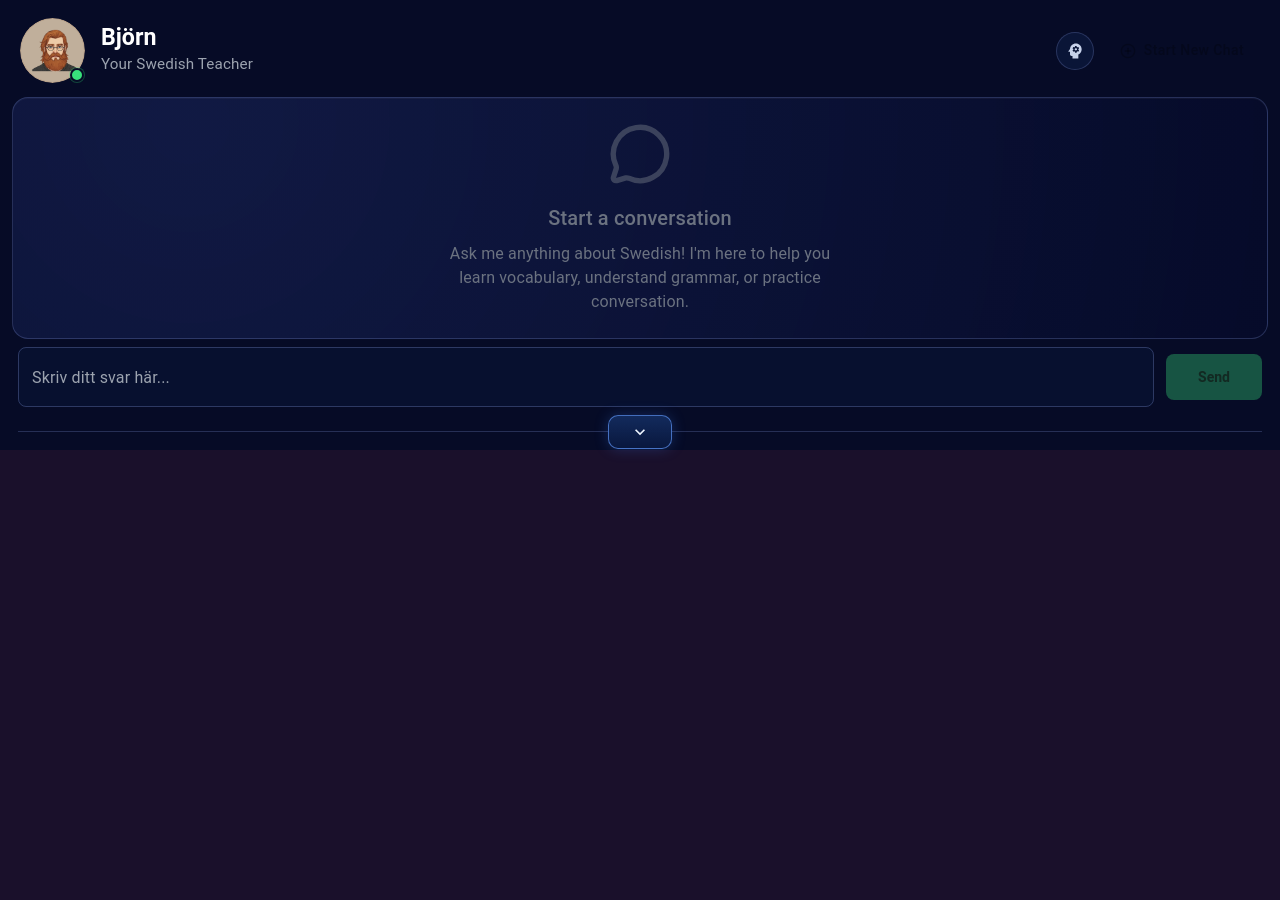
Test: ChatView › does not override manual speech language selection when profile updates later
Click the button named "chat controls" at coordinates (640, 432), box [608,415,672,449]
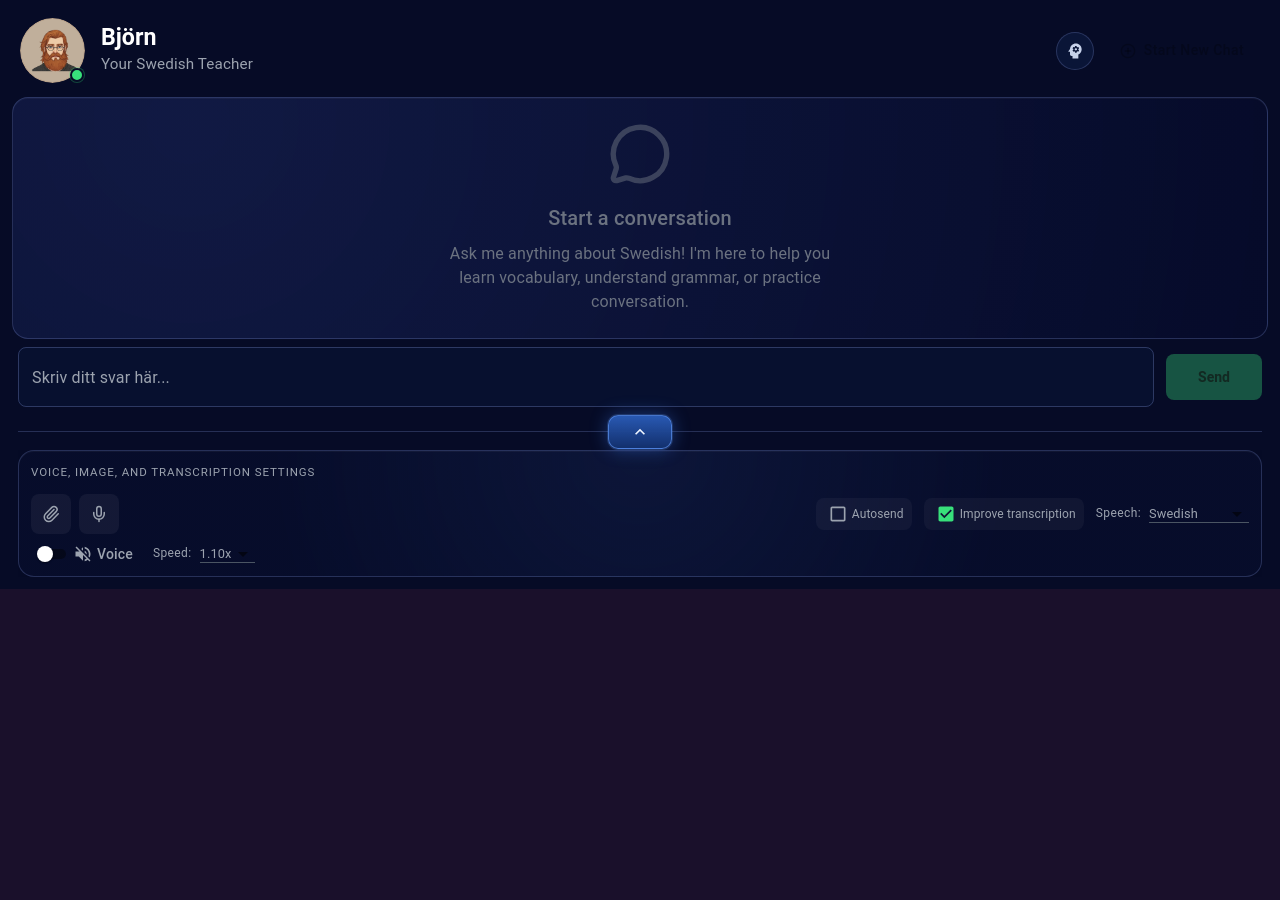
Press the mouse on the dropdown named "speech language" at coordinates (1173, 514), box [1149,506,1198,521]
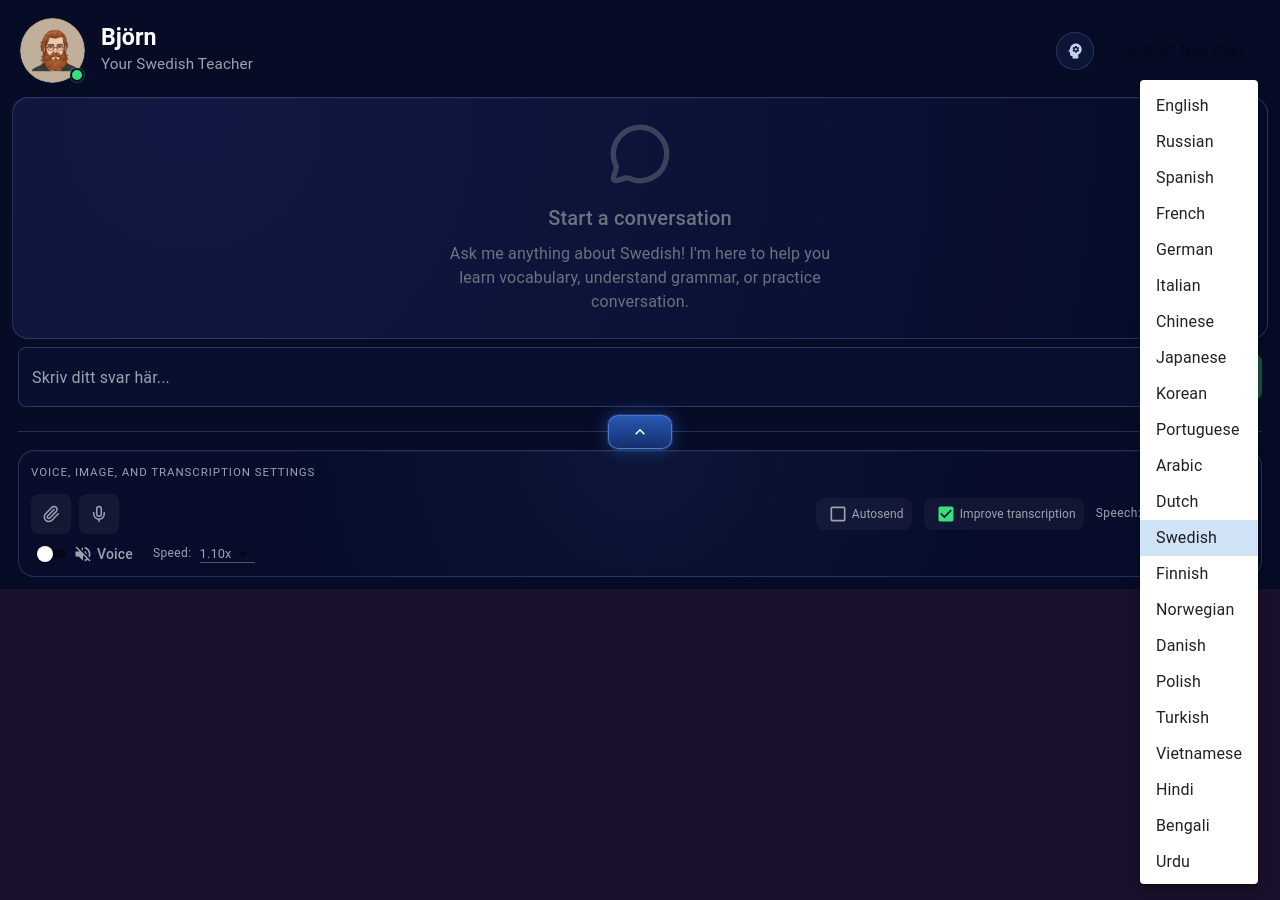
Click the option "German" at coordinates (1185, 250), box [1156,240,1213,259]
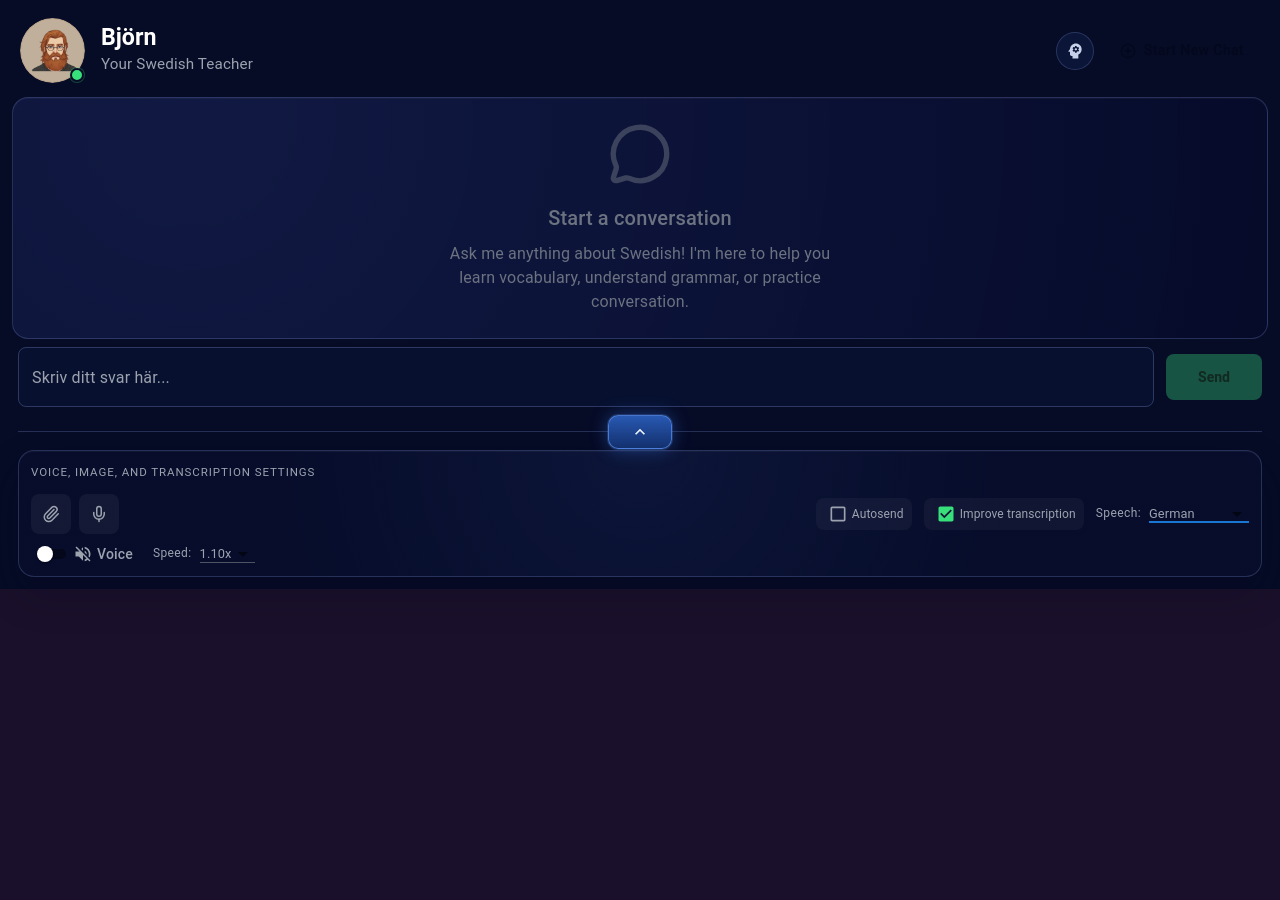
Now the dropdown named "speech language" reads "German", box [1149,506,1195,521]
